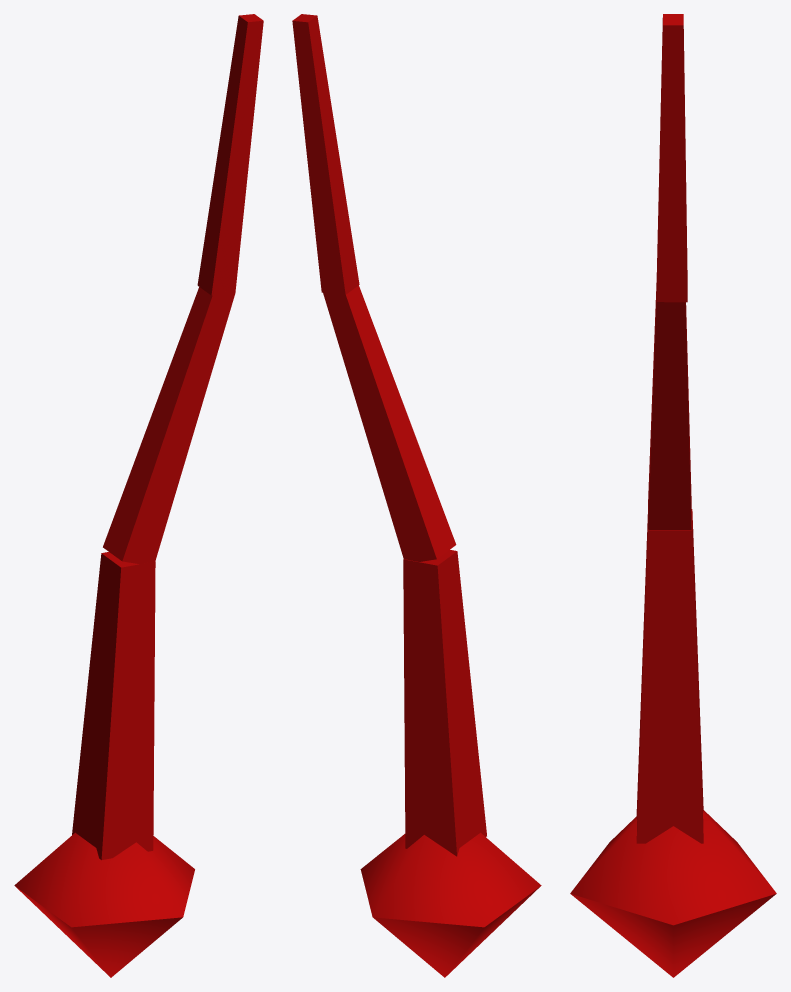
The model's file is SM_Env_Tree_Palm_01_Collision.gltf.
The picture shows the model from 3 angles, left to right: view 1: azimuth 30°, elevation 25°; view 2: azimuth 150°, elevation 25°; view 3: azimuth 270°, elevation 25°; orthographic projection. The views are drawn at different scales.
Visible parts, largest first — view 1: SM_Env_Tree_Palm_01_Collision; view 2: SM_Env_Tree_Palm_01_Collision; view 3: SM_Env_Tree_Palm_01_Collision.
Part boxes in pixels (x1,y1,x2,y2): SM_Env_Tree_Palm_01_Collision: [14, 14, 263, 977]; SM_Env_Tree_Palm_01_Collision: [292, 14, 541, 977]; SM_Env_Tree_Palm_01_Collision: [570, 14, 776, 977].
Size of the model in its own units: 1.64 by 6.72 by 1.22.
